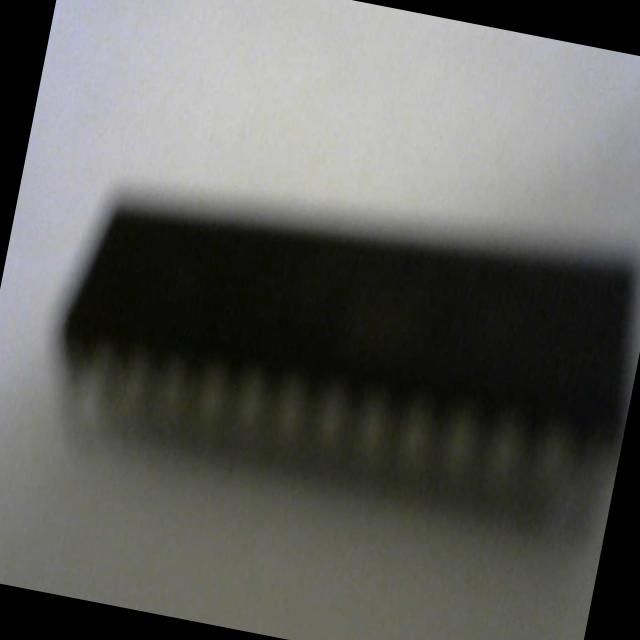atmega: (36, 145, 640, 554)
